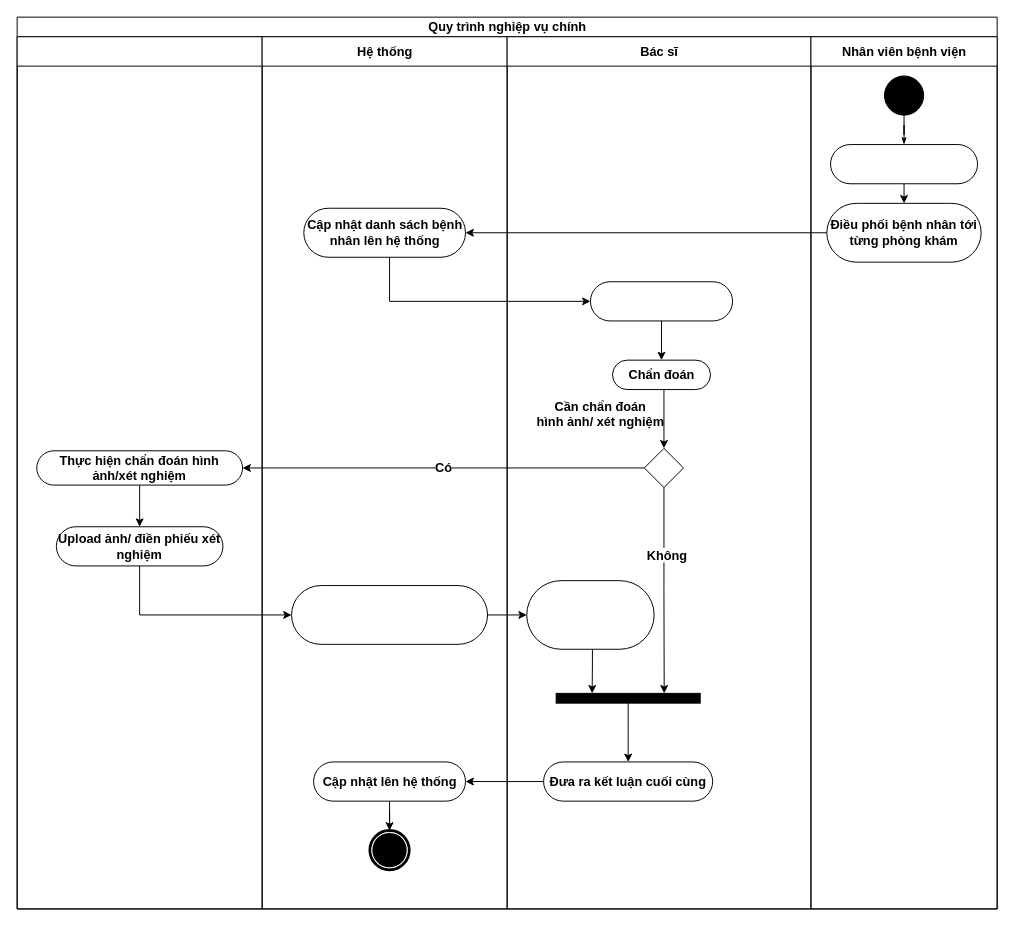
This 1014x926 diagram has some shape labels left out. The shapes that lost their labels are listed below. From the top down, each one's box as (x1, y1, x2, y2) in pixels, then its label:
(830, 144, 978, 184): Nhập thông tin bệnh nhân
(589, 281, 733, 321): Tiếp nhận bệnh nhân cần khám
(16, 36, 262, 909): Nhân viên chẩn đoán hình ảnh/ xét nghiệm
(291, 585, 488, 644): Hệ thống lưu trữ, đưa vào mô hình chẩn đoán và xuất báo cáo tương ứng
(526, 580, 654, 649): Xem các kết quả xét nghiệm/ hình ảnh
